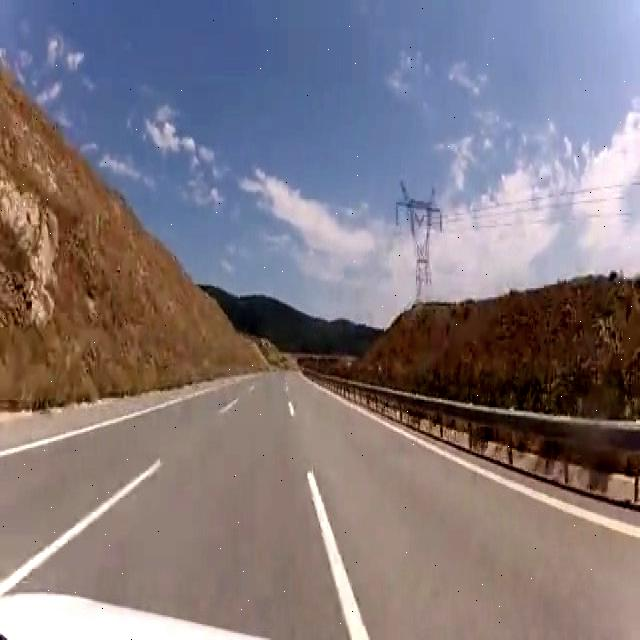lane: (0, 458, 224, 638), (355, 409, 640, 539), (308, 471, 369, 638), (311, 482, 362, 631)
road: (1, 372, 640, 636)
